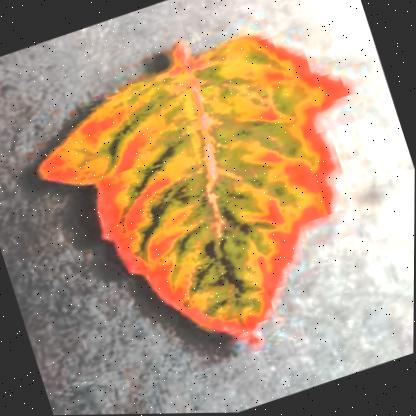Virus: (2, 0, 415, 410)
